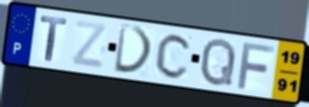C: (153, 32, 194, 81)
D: (113, 22, 156, 76)
F: (235, 40, 277, 91)
Q: (198, 36, 238, 88)
T: (39, 14, 69, 64)
Z: (70, 18, 110, 71)
